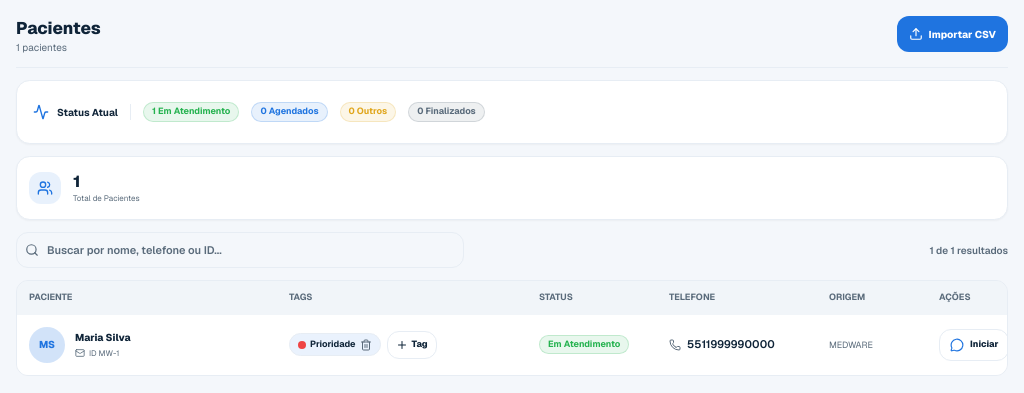
Test: PacientesClient › should_abort_previous_search_and_ignore_its_late_response
In the search field named "Buscar pacientes": (251, 250) [47,242,455,258], type "joao"
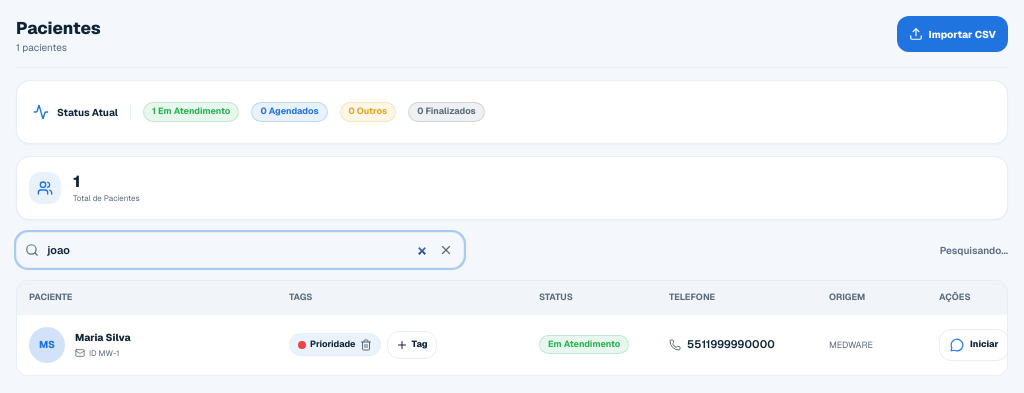
Clear the search field named "Buscar pacientes": (238, 250) [47,242,429,258]
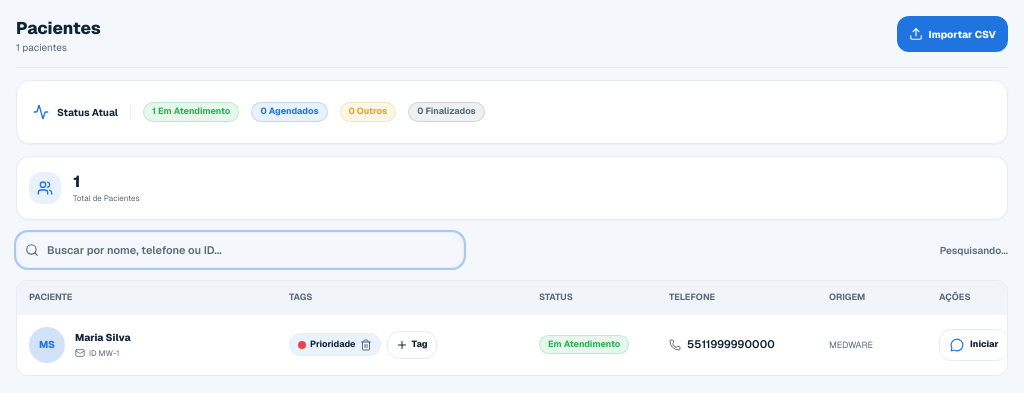
In the search field named "Buscar pacientes": (251, 250) [47,242,455,258], type "ana"
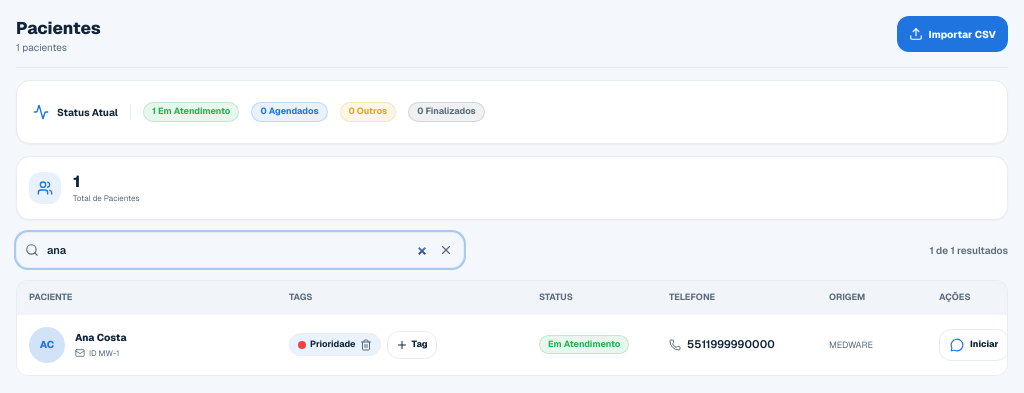
Check: the text "Ana Costa" is shown, box [75,330,126,345]
